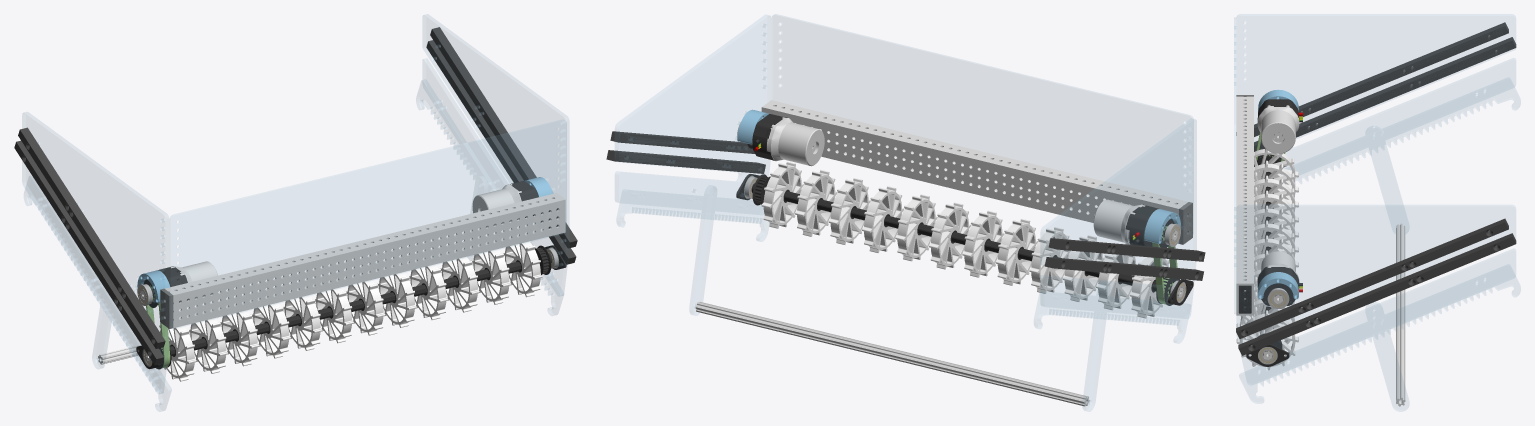
3 renders of one model, left to right at view 1: azimuth 30°, elevation 25°; view 2: azimuth 150°, elevation 25°; view 3: azimuth 270°, elevation 25°, orthographic. The views are drawn at different scales.
Visible parts, largest first — view 1: Part 1 (×12), 3.5" Compliant Intake Wheel (30A, 1/2" Wide, 1/2" Hex Bore) (×12), 2" x 1" x 0.125" Aluminum Box Tube (24.95" L, Full Pattern, , 1/2" Rounded Hex (25.825"L 13.75mm OD), id1838 (×2); view 2: Part 1 (×13), 3.5" Compliant Intake Wheel (30A, 1/2" Wide, 1/2" Hex Bore) (×12), 2" x 1" x 0.125" Aluminum Box Tube (24.95" L, Full Pattern, , 1/2" Churro (22.5" L, 6061 Aluminum), id1838 (×2), 1/2" Rounded Hex (25.825"L 13.75mm OD), SPARK Flex Brushless Motor Controller (×2); view 3: Part 1 (×13), 3.5" Compliant Intake Wheel (30A, 1/2" Wide, 1/2" Hex Bore) (×9), 2" x 1" x 0.125" Aluminum Box Tube (24.95" L, Full Pattern, , id1838 (×2), 1/2" Churro (22.5" L, 6061 Aluminum), SPARK Flex Brushless Motor Controller (×2), Tube Plug (2" x 1" x 1/8" Tube), 1.125" OD Bearing Retention Plate (Centered, 2" C-C), 1/2" Rounded Hex (13.75mm) ID Bearing (1.125" OD, 0.313" WD,.
Part boxes in pixels (bbox=[...]): Part 1 (×12): bbox=[14, 14, 577, 411]; 3.5" Compliant Intake Wheel (30A, 1/2" Wide, 1/2" Hex Bore) (×12): bbox=[159, 241, 542, 381]; 2" x 1" x 0.125" Aluminum Box Tube (24.95" L, Full Pattern, : bbox=[165, 193, 565, 327]; 1/2" Rounded Hex (25.825"L 13.75mm OD): bbox=[146, 254, 551, 361]; id1838 (×2): bbox=[170, 184, 521, 298]; Part 1 (×13): bbox=[606, 14, 1205, 411]; 3.5" Compliant Intake Wheel (30A, 1/2" Wide, 1/2" Hex Bore) (×12): bbox=[761, 161, 1169, 318]; 2" x 1" x 0.125" Aluminum Box Tube (24.95" L, Full Pattern, : bbox=[761, 100, 1187, 243]; 1/2" Churro (22.5" L, 6061 Aluminum): bbox=[695, 301, 1089, 406]; id1838 (×2): bbox=[768, 117, 1145, 244]; 1/2" Rounded Hex (25.825"L 13.75mm OD): bbox=[751, 183, 1183, 297]; SPARK Flex Brushless Motor Controller (×2): bbox=[752, 114, 1158, 246]; Part 1 (×13): bbox=[1234, 14, 1520, 411]; 3.5" Compliant Intake Wheel (30A, 1/2" Wide, 1/2" Hex Bore) (×9): bbox=[1236, 148, 1298, 370]; 2" x 1" x 0.125" Aluminum Box Tube (24.95" L, Full Pattern, : bbox=[1236, 96, 1253, 315]; id1838 (×2): bbox=[1257, 105, 1299, 281]; 1/2" Churro (22.5" L, 6061 Aluminum): bbox=[1396, 223, 1405, 406]; SPARK Flex Brushless Motor Controller (×2): bbox=[1257, 99, 1302, 305]; Tube Plug (2" x 1" x 1/8" Tube): bbox=[1238, 285, 1251, 313]; 1.125" OD Bearing Retention Plate (Centered, 2" C-C): bbox=[1246, 344, 1289, 366]; 1/2" Rounded Hex (13.75mm) ID Bearing (1.125" OD, 0.313" WD,: bbox=[1267, 288, 1289, 308].
Size of the model in its own units: 0.6782 by 0.3365 by 0.4111.
